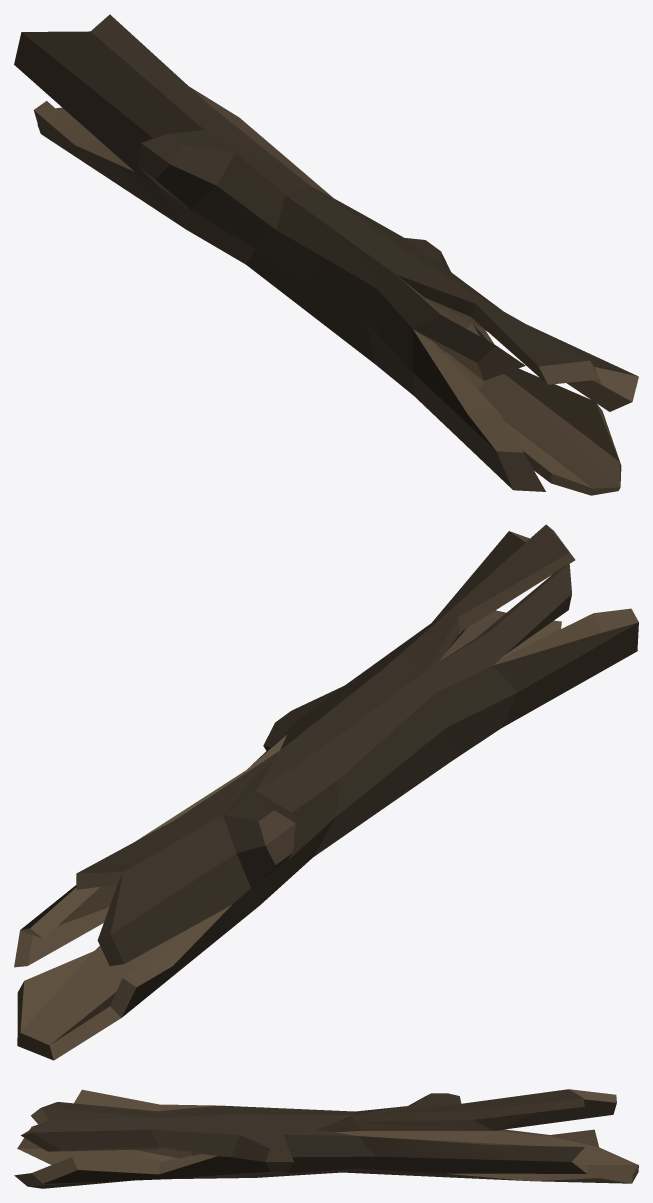
File: synty-tree-log-01.gltf
The picture shows the model from 3 angles, top to bottom: view 1: azimuth 30°, elevation 25°; view 2: azimuth 150°, elevation 25°; view 3: azimuth 270°, elevation 25°; orthographic projection. The views are drawn at different scales.
Parts seen in each view (by area): view 1: SM_Tree_Log_01; view 2: SM_Tree_Log_01; view 3: SM_Tree_Log_01.
Boxes of the visible parts, x1,y1,x2,y2 form: SM_Tree_Log_01: (14, 14, 638, 495); SM_Tree_Log_01: (14, 524, 638, 1060); SM_Tree_Log_01: (14, 1089, 638, 1188).
Bounding box in the file's own units: 0.4939 × 0.4616 × 3.05.
1 material, 1 textured.
